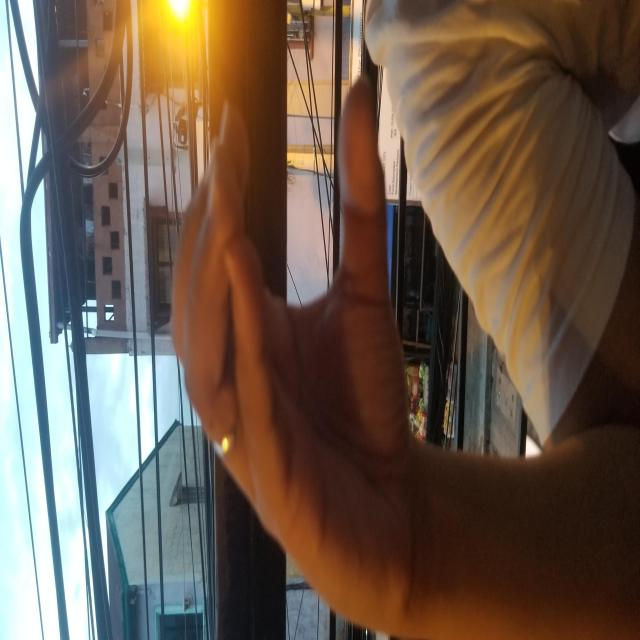C: (120, 55, 492, 625)
